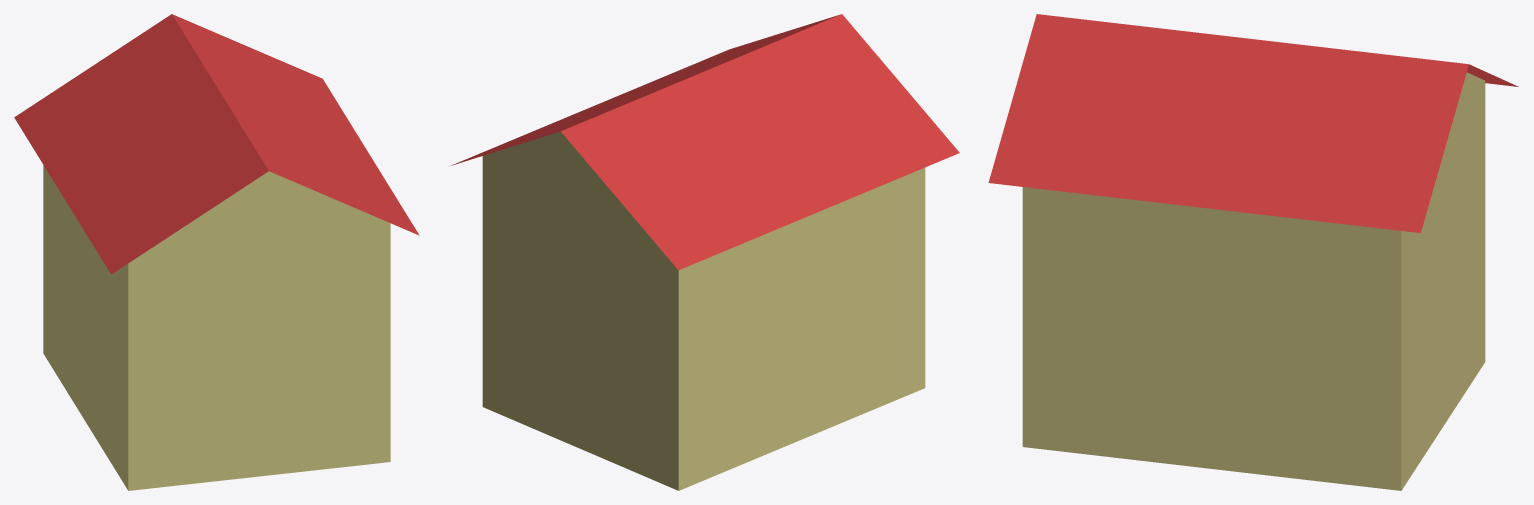
The picture shows the model from 3 angles, left to right: view 1: azimuth 30°, elevation 25°; view 2: azimuth 150°, elevation 25°; view 3: azimuth 270°, elevation 25°; orthographic projection. The views are drawn at different scales.
Bounding box in the file's own units: 8.58 × 9.54 × 7.28.
